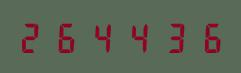four: (86, 20, 119, 53), (120, 20, 153, 53)
six: (51, 20, 84, 53), (188, 20, 221, 53)
three: (154, 20, 187, 53)
two: (17, 20, 50, 53)
